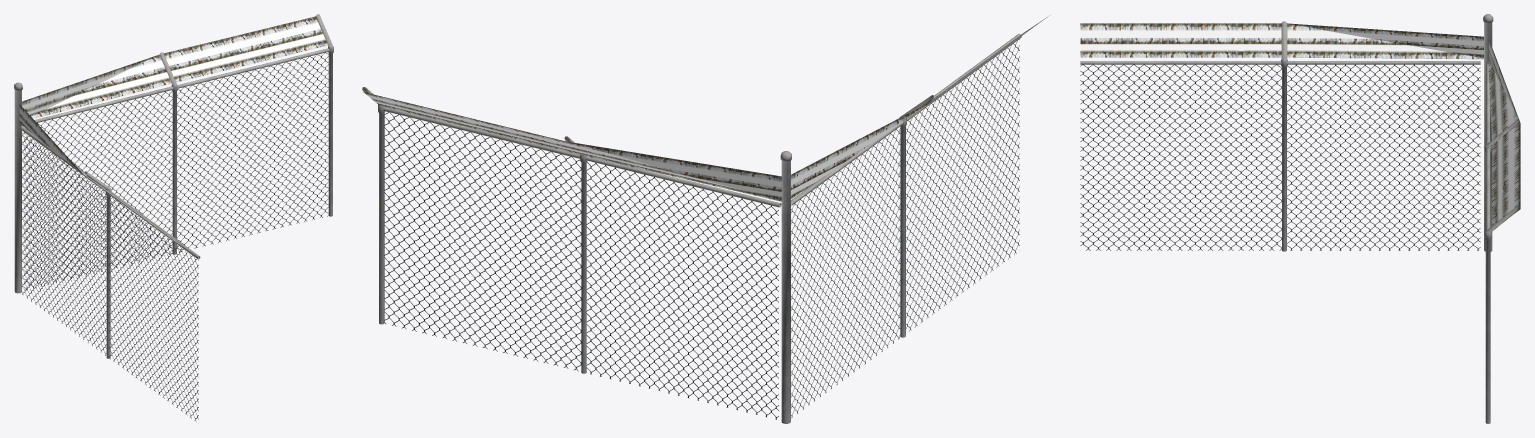
Rendered from fence1.dae.
3 views of the same model, side by side, from view 1: azimuth 30°, elevation 25°; view 2: azimuth 150°, elevation 25°; view 3: azimuth 270°, elevation 25° (orthographic). The views are drawn at different scales.
Parts seen in each view (by area): view 1: fence1; view 2: fence1; view 3: fence1.
Part boxes in pixels (x1=…): fence1: x1=14, y1=14, x2=333, y2=421; fence1: x1=362, y1=15, x2=1049, y2=423; fence1: x1=1080, y1=14, x2=1520, y2=423.
Size of what is drawn, in the model's own units: 5.97 by 5.92 by 3.5.
Materials: 3 (3 with a texture image).
